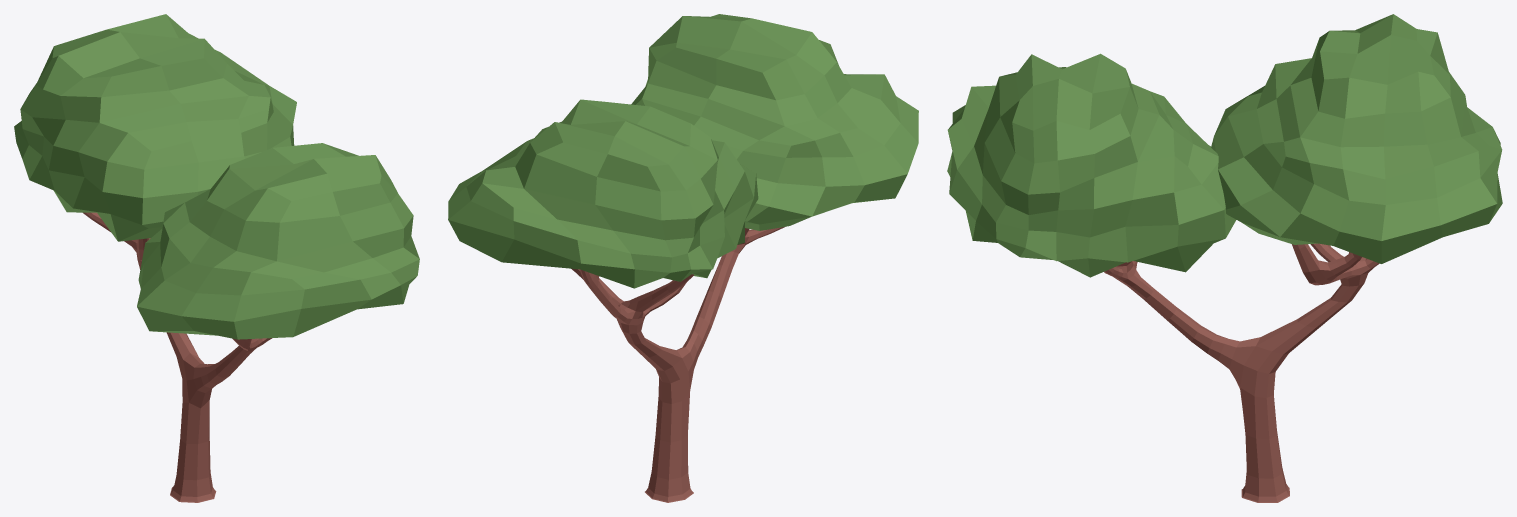
The model's file is CommonTree_1.glb.
3 renders of one model, left to right at view 1: azimuth 30°, elevation 25°; view 2: azimuth 150°, elevation 25°; view 3: azimuth 270°, elevation 25°, orthographic. The views are drawn at different scales.
Parts seen in each view (by area): view 1: CommonTree_1; view 2: CommonTree_1; view 3: CommonTree_1.
Part boxes in pixels (x1=…): CommonTree_1: x1=14, y1=14, x2=419, y2=502; CommonTree_1: x1=448, y1=14, x2=918, y2=502; CommonTree_1: x1=947, y1=14, x2=1502, y2=502.
Bounding box in the file's own units: 189 × 248 × 277.
